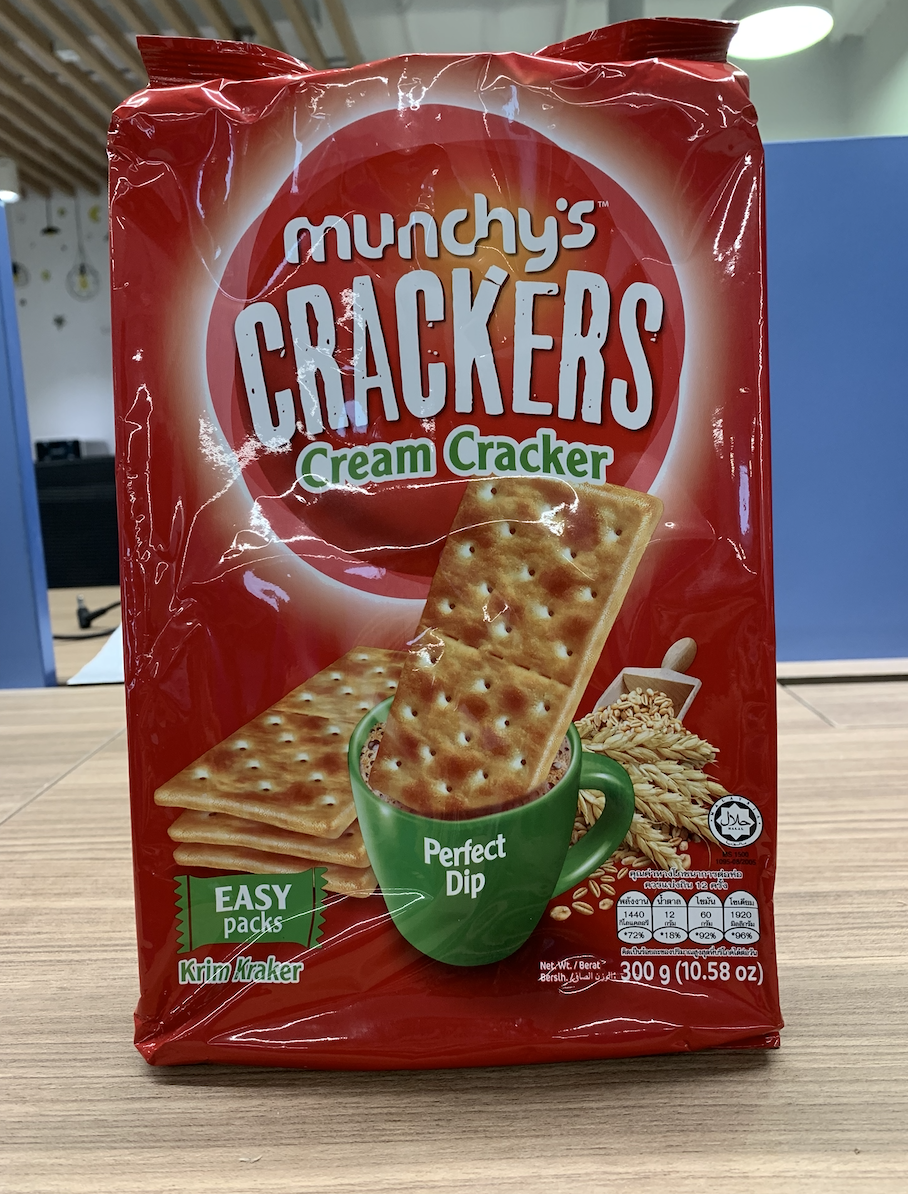crackers_450g: (142, 103, 775, 1003)
